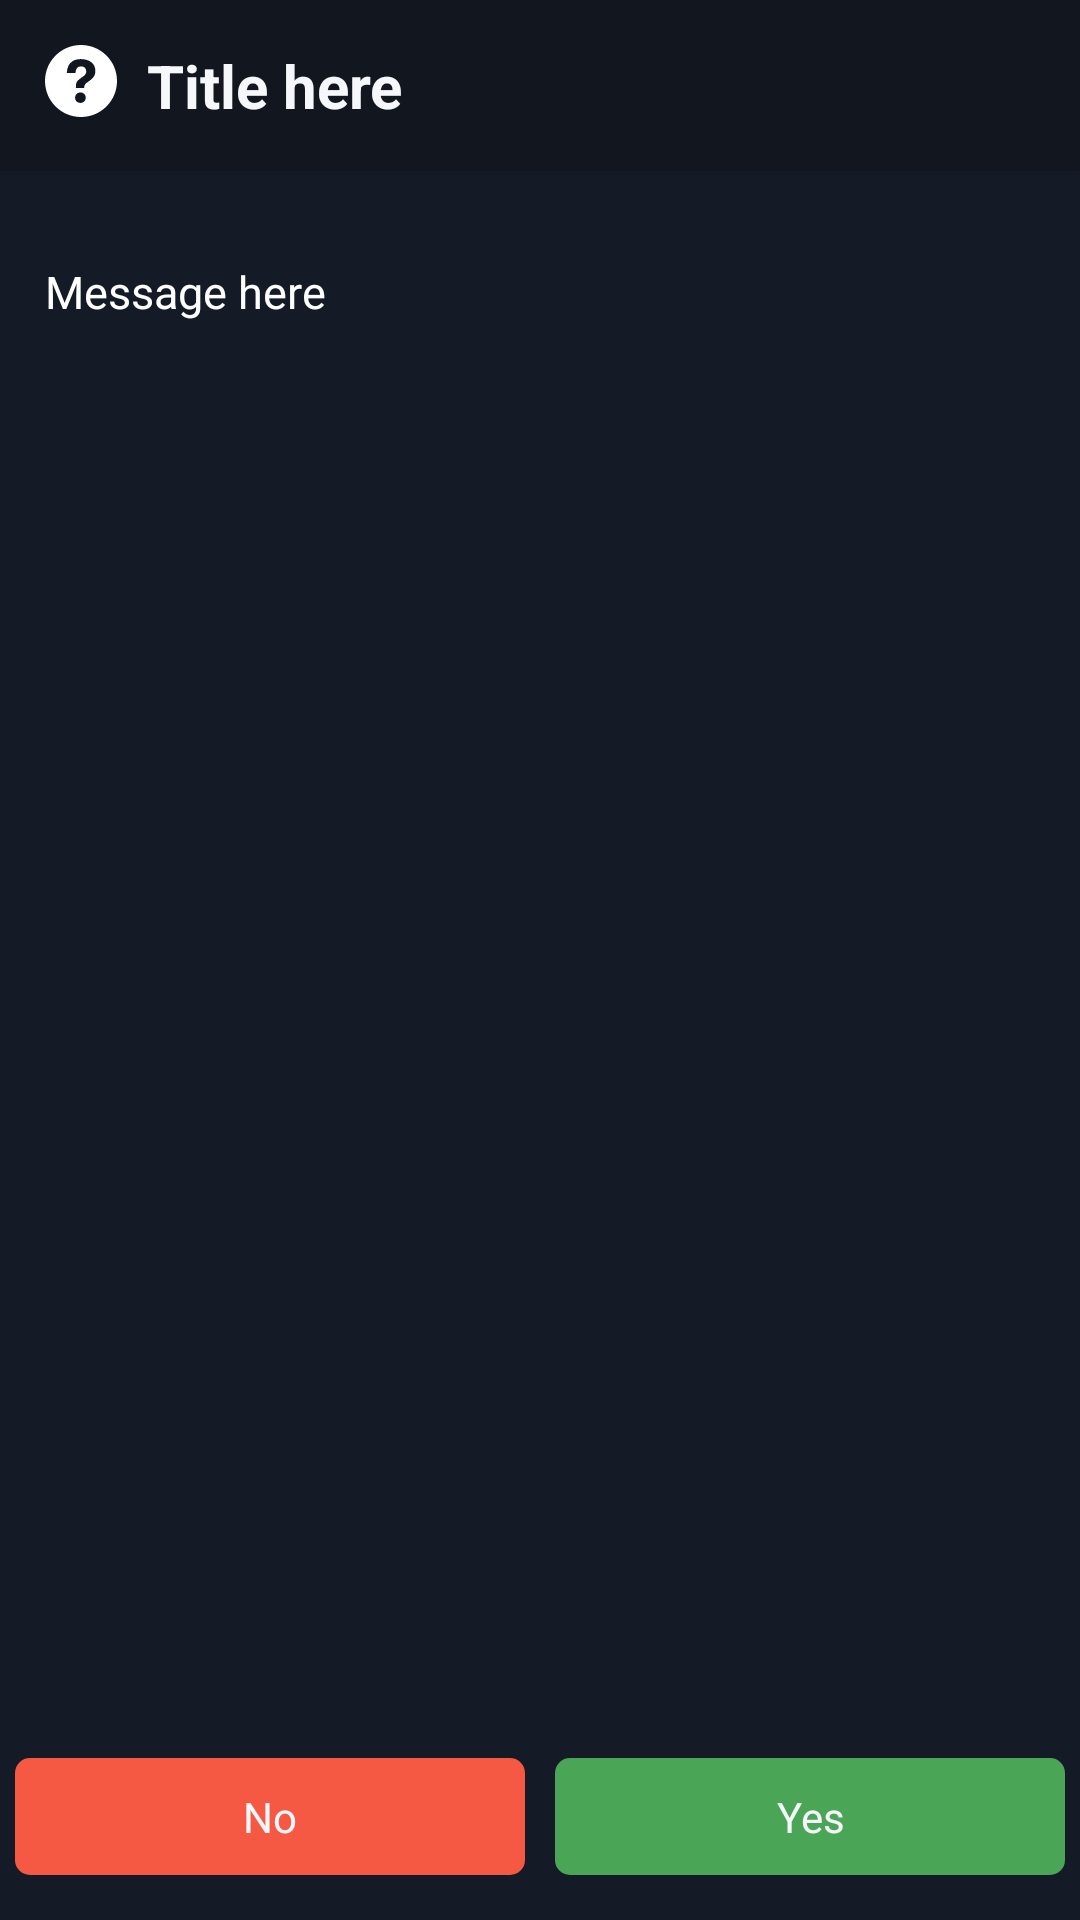

Where to tap for icons on this 1080 x 1920 app screen, as (x=x, y=y):
question: (x=81, y=81)
